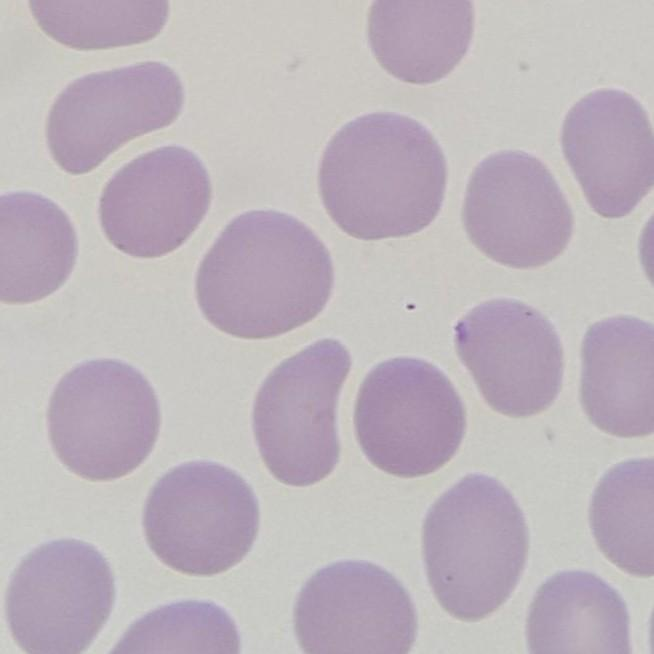Uninfected: (197, 212, 337, 338), (318, 110, 450, 241), (249, 340, 360, 486), (421, 470, 525, 624), (43, 65, 180, 177), (353, 359, 468, 479), (557, 86, 654, 224), (97, 142, 210, 259), (461, 149, 573, 267), (453, 299, 562, 417), (144, 460, 258, 572), (50, 360, 160, 476), (11, 542, 115, 654), (296, 562, 420, 654), (0, 189, 82, 309), (369, 0, 479, 86), (579, 310, 654, 436), (521, 573, 634, 654)
